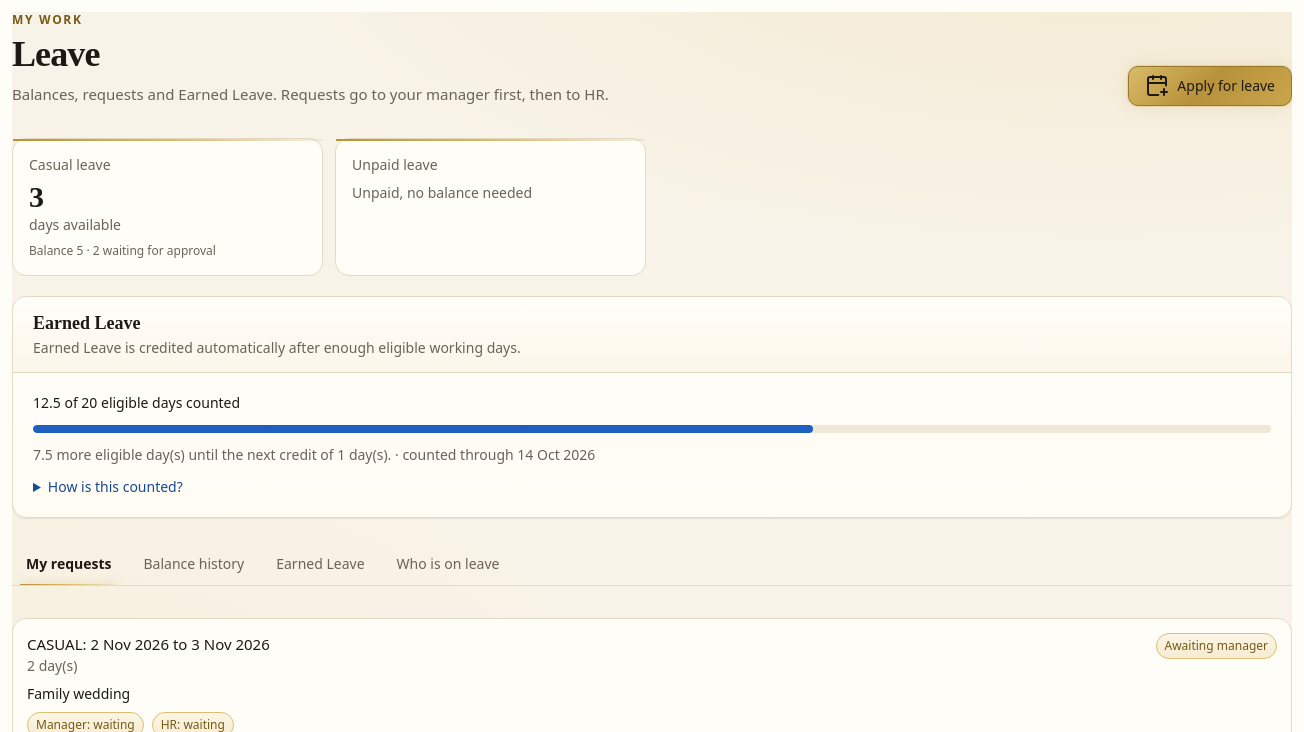
Test case: LeavePage › ledger tab lists entries newest first with the running balance; team leave tab only for managers
Step 1. Click the tab "Balance history" → (194, 564), box left=130, top=542, right=258, bottom=586
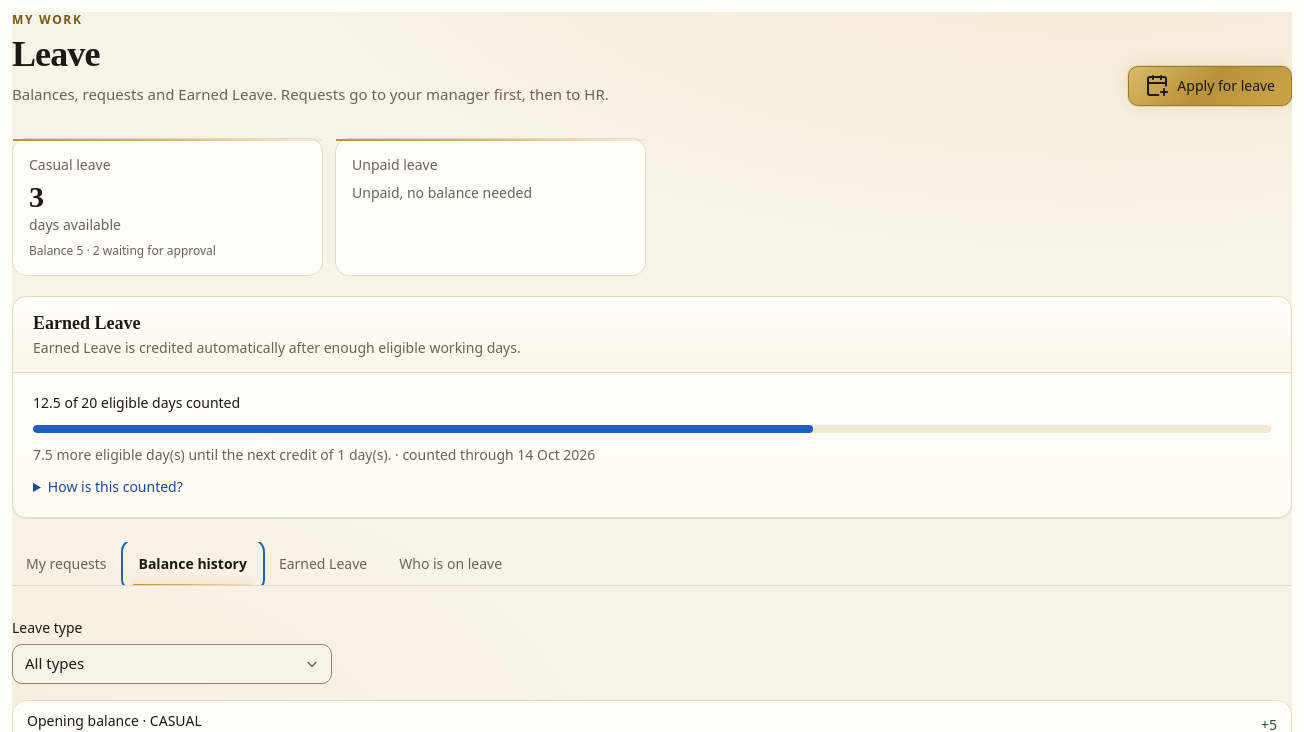
Check: the tab "Who is on leave" is shown, box left=385, top=542, right=516, bottom=586
Check: the text "Opening balance · CASUAL" is shown, box left=27, top=711, right=202, bottom=730
